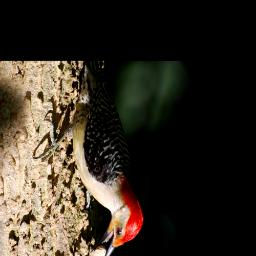Woodpecker: (29, 63, 144, 256)
